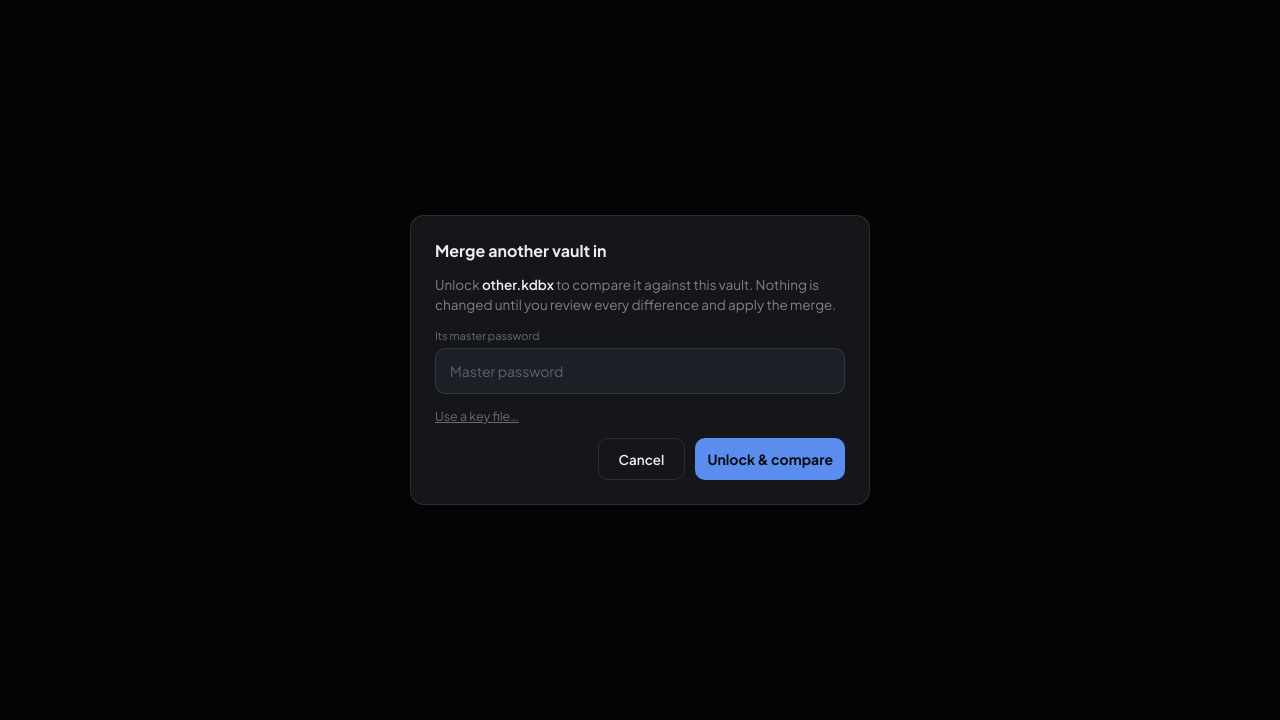
Scenario: MergeUnlockDialog › falls back to a generic message when the failure carries none
The image size is (1280, 720).
What coordinates should you click on to do the following:
click the button "Unlock & compare"
I would click on:
 (770, 459)
Its box is [695,438,845,480].
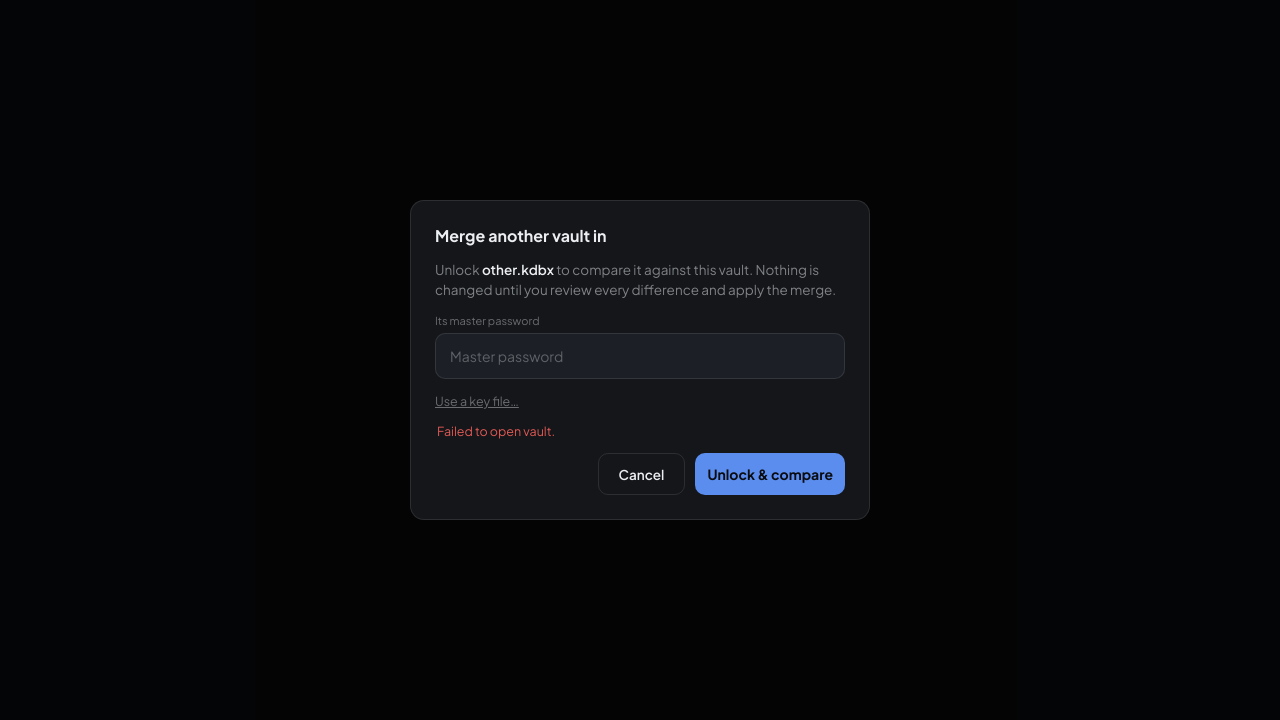
Check: the text "Failed to open vault." is shown, box [437,423,555,439]
